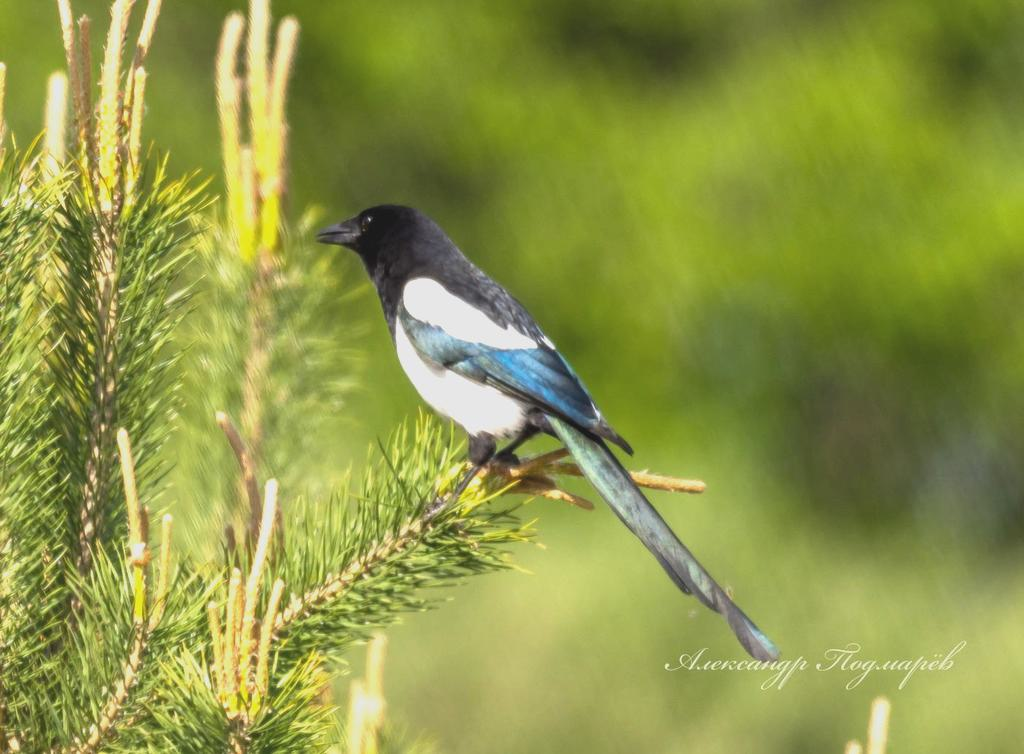PicaPica: (313, 202, 782, 665)
